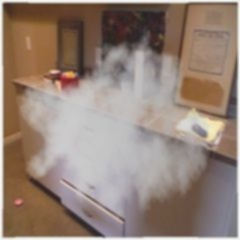smoke: (34, 46, 189, 187)
